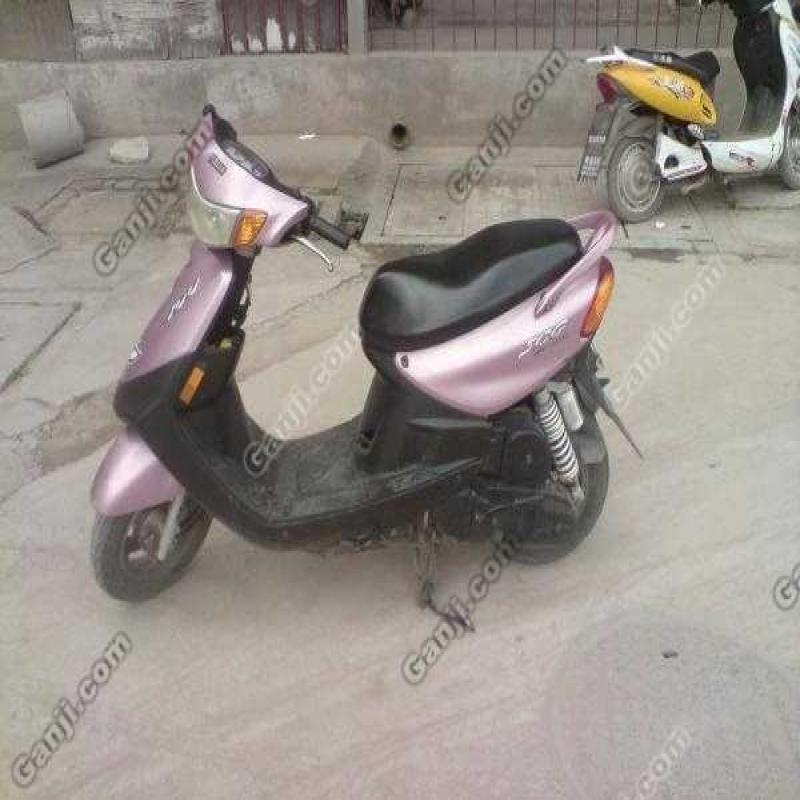bike: (62, 100, 626, 628)
